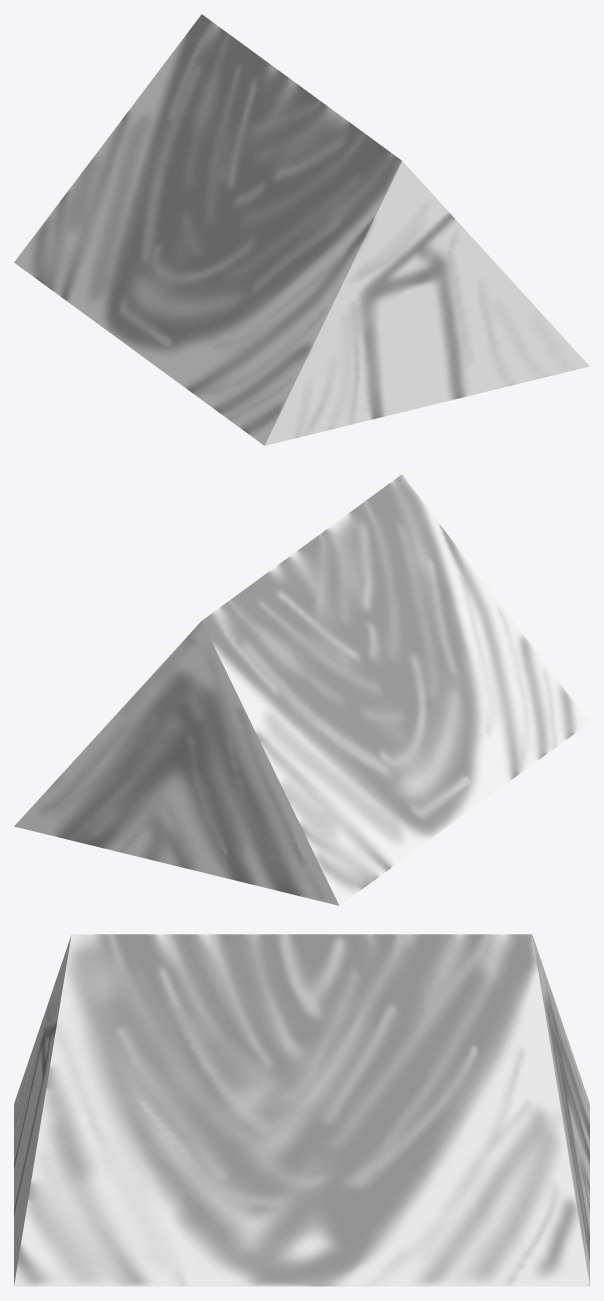
The model's file is tent_001.fbx.
3 views of the same model, one above another, from view 1: azimuth 30°, elevation 25°; view 2: azimuth 150°, elevation 25°; view 3: azimuth 270°, elevation 25° (orthographic). The views are drawn at different scales.
Visible parts, largest first — view 1: Cube; view 2: Cube; view 3: Cube.
Boxes of the visible parts, x1,y1,x2,y2 form: Cube: (14, 14, 589, 445); Cube: (14, 474, 589, 905); Cube: (14, 934, 589, 1286).
Bounding box in the file's own units: 600 × 400 × 800.
Materials: 1 (1 with a texture image).
